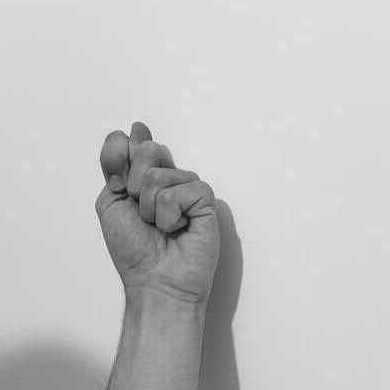T: (93, 120, 221, 302)
